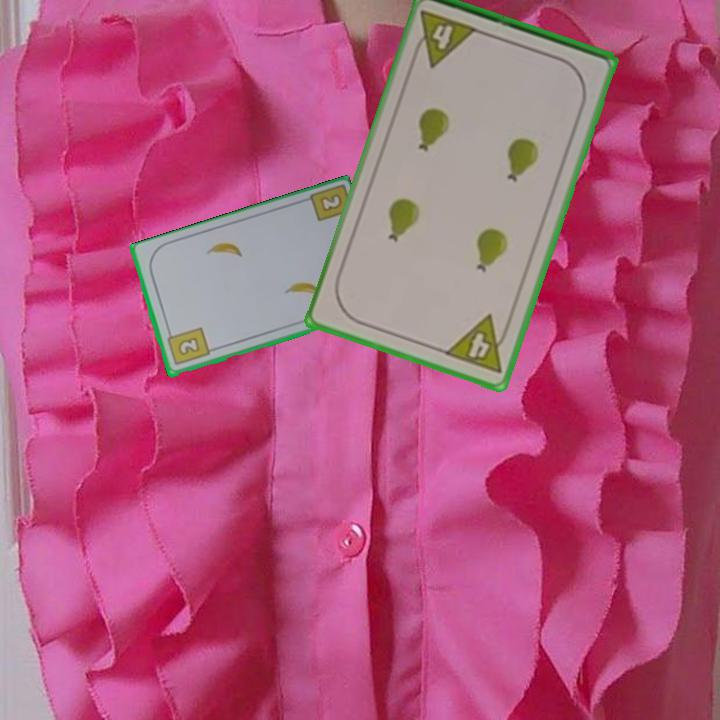2b: (163, 324, 212, 368), (319, 192, 343, 213)
4p: (441, 311, 515, 377), (408, 7, 481, 70)
